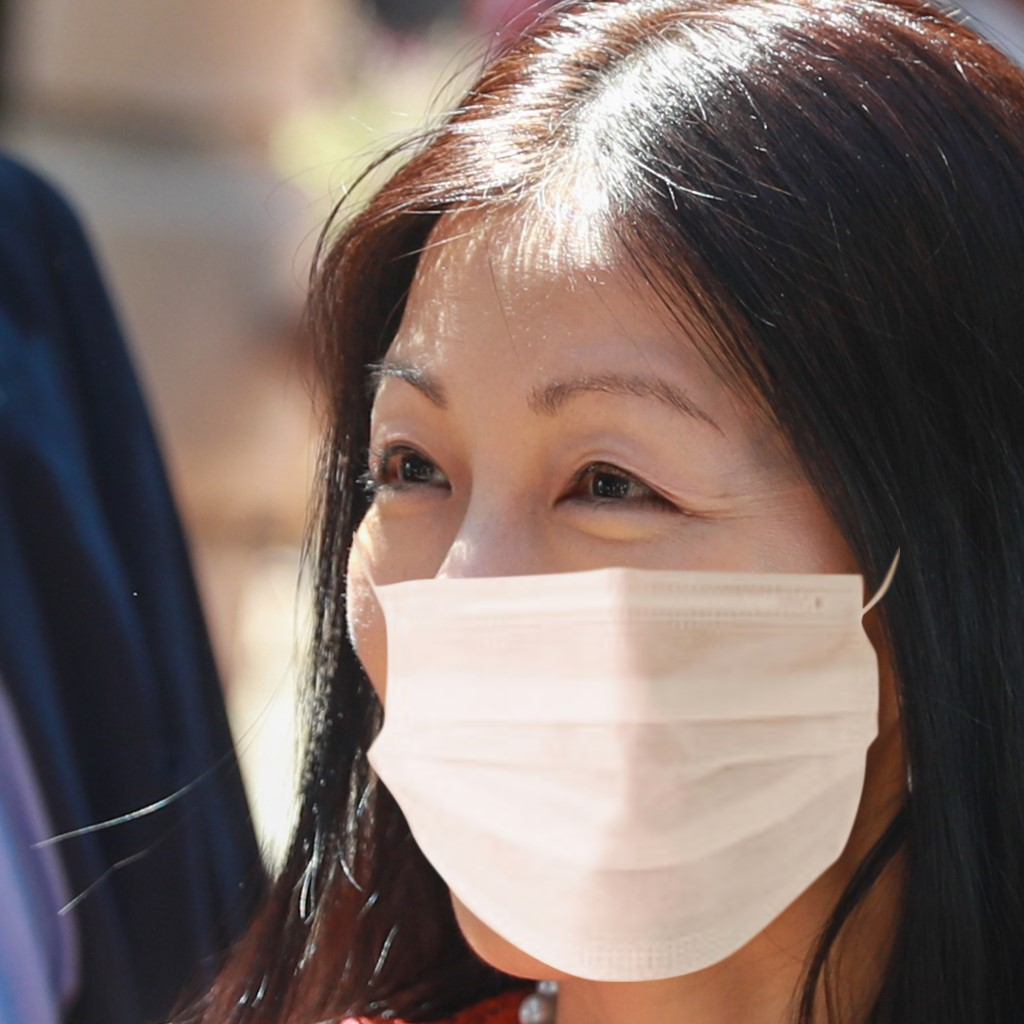con_mascara: (343, 184, 899, 1018)
